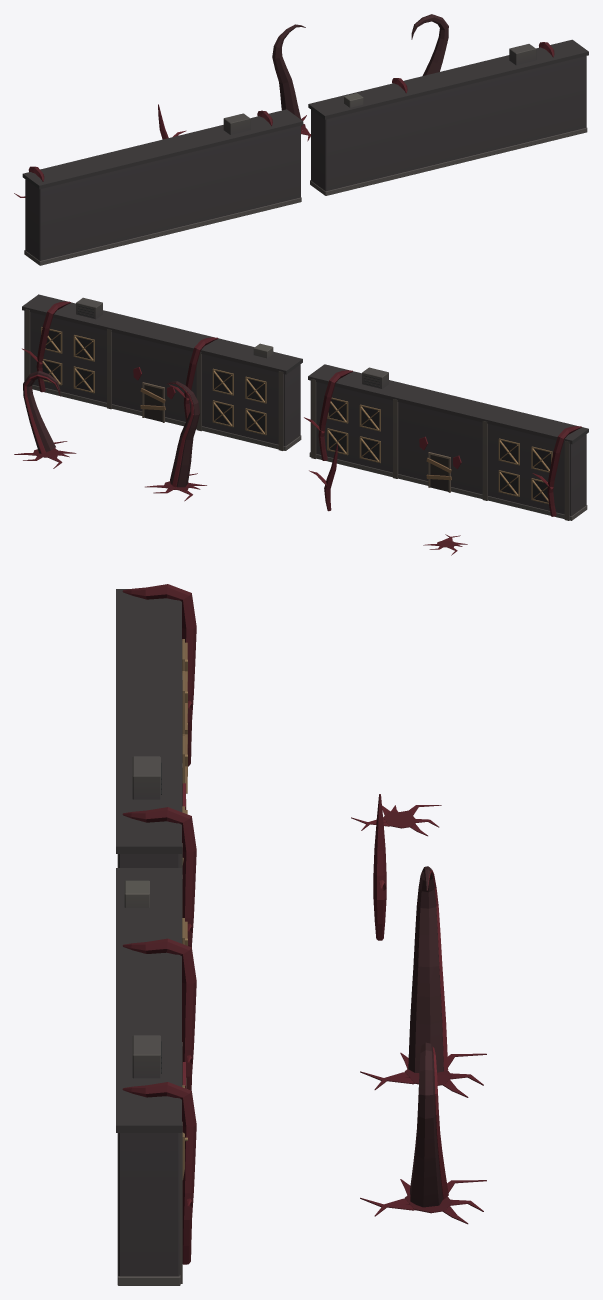
The model's file is parasitown.glb.
3 renders of one model, top to bottom at view 1: azimuth 30°, elevation 25°; view 2: azimuth 150°, elevation 25°; view 3: azimuth 270°, elevation 25°, orthographic. The views are drawn at different scales.
Parts seen in each view (by area): view 1: PT_InfectedFacadeA__Body, PT_InfectedFacadeB__Body, PT_ArenaTentacleTall__Body, PT_ArenaTentacleHook__Body; view 2: PT_InfectedFacadeA__Body, PT_InfectedFacadeB__Body, PT_ArenaTentacleTall__Body, PT_ArenaTentacleHook__Body, PT_WallGrowth__Body; view 3: PT_InfectedFacadeB__Body, PT_InfectedFacadeA__Body, PT_ArenaTentacleTall__Body, PT_ArenaTentacleHook__Body, PT_WallGrowth__Body, PT_InfectionPatch__Body.
Part boxes in pixels (x1,y1,x2,y2): PT_InfectedFacadeA__Body: (22, 109, 303, 265); PT_InfectedFacadeB__Body: (308, 39, 588, 195); PT_ArenaTentacleTall__Body: (272, 24, 310, 141); PT_ArenaTentacleHook__Body: (411, 14, 448, 75); PT_InfectedFacadeA__Body: (304, 364, 588, 520); PT_InfectedFacadeB__Body: (22, 294, 302, 450); PT_ArenaTentacleTall__Body: (145, 381, 206, 501); PT_ArenaTentacleHook__Body: (14, 370, 76, 468); PT_WallGrowth__Body: (309, 444, 337, 511); PT_InfectedFacadeB__Body: (116, 868, 196, 1285); PT_InfectedFacadeA__Body: (116, 584, 196, 947); PT_ArenaTentacleTall__Body: (360, 866, 486, 1097); PT_ArenaTentacleHook__Body: (360, 1042, 486, 1224); PT_WallGrowth__Body: (373, 794, 386, 940); PT_InfectionPatch__Body: (351, 805, 441, 836).
Size of the model in its own units: 135 by 24.27 by 39.34.
